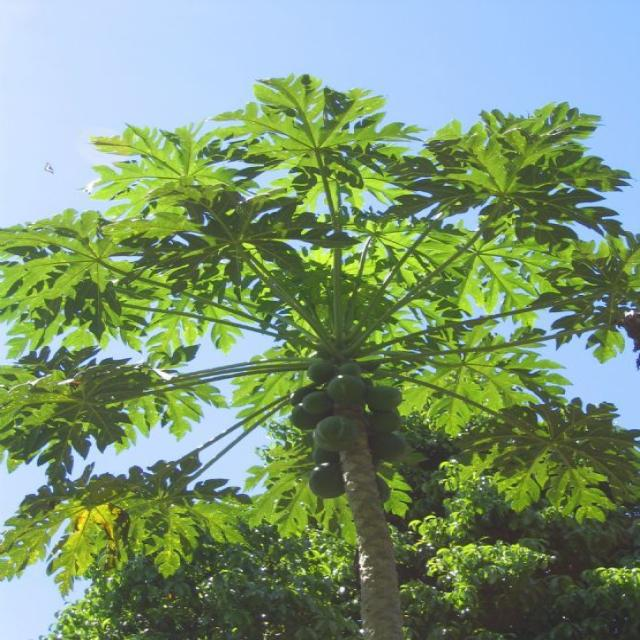Papaya-Tree: (62, 104, 591, 640)
